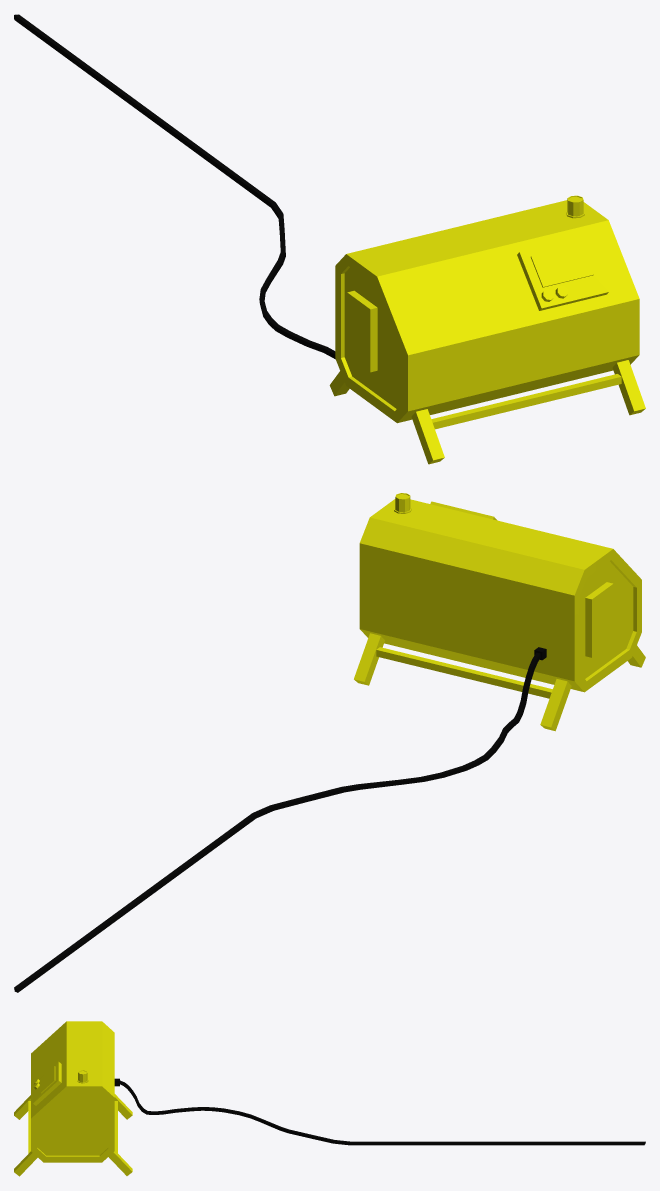
File: _enerator.fbx
The picture shows the model from 3 angles, top to bottom: view 1: azimuth 30°, elevation 25°; view 2: azimuth 150°, elevation 25°; view 3: azimuth 270°, elevation 25°; orthographic projection. The views are drawn at different scales.
Visible parts, largest first — view 1: pCube246; view 2: pCube246; view 3: pCube246.
Boxes of the visible parts, bbox=[...] form: pCube246: bbox=[14, 14, 645, 464]; pCube246: bbox=[14, 493, 645, 992]; pCube246: bbox=[14, 1021, 645, 1176].
Size of the model in its own units: 250 by 178 by 1009.
